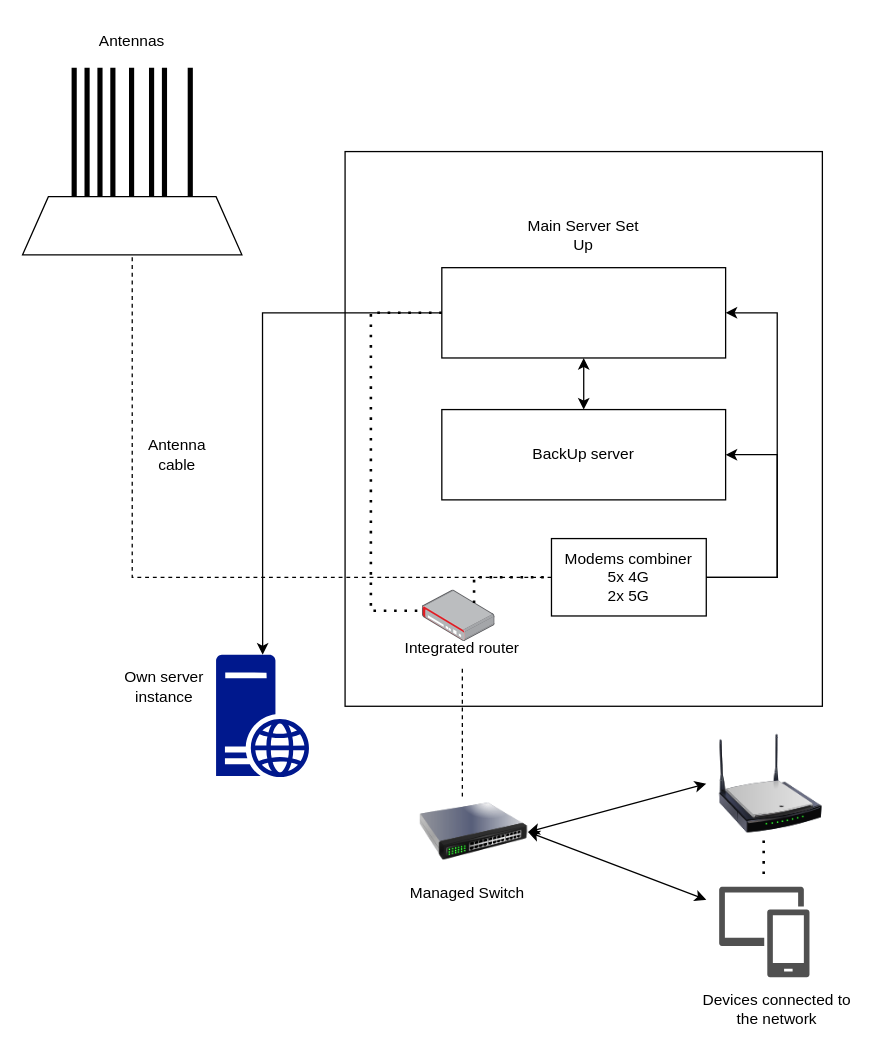
The diagram is 884 pixels wide and 1050 high, and some of its shapes have lost their labels. The shapes that lost their labels are listed below. From the top down, each one's centre as x and y in pixels, then its label:
point (131, 225): Roof
point (583, 312): Primary server
